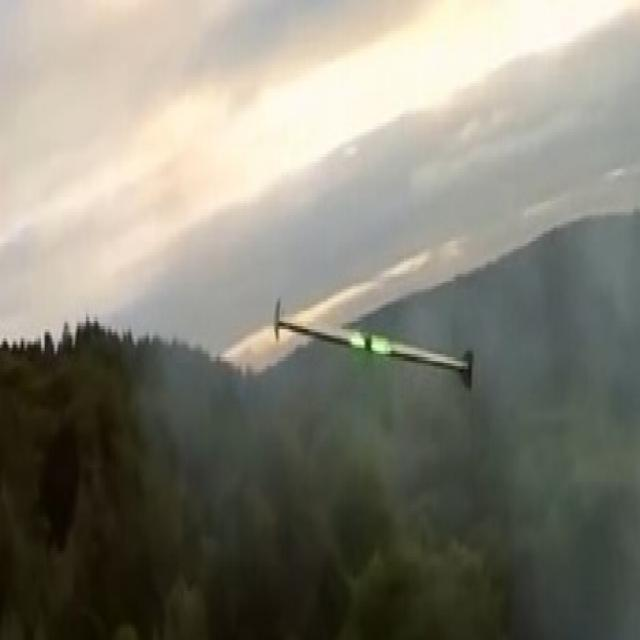UAV: (266, 298, 478, 410)
